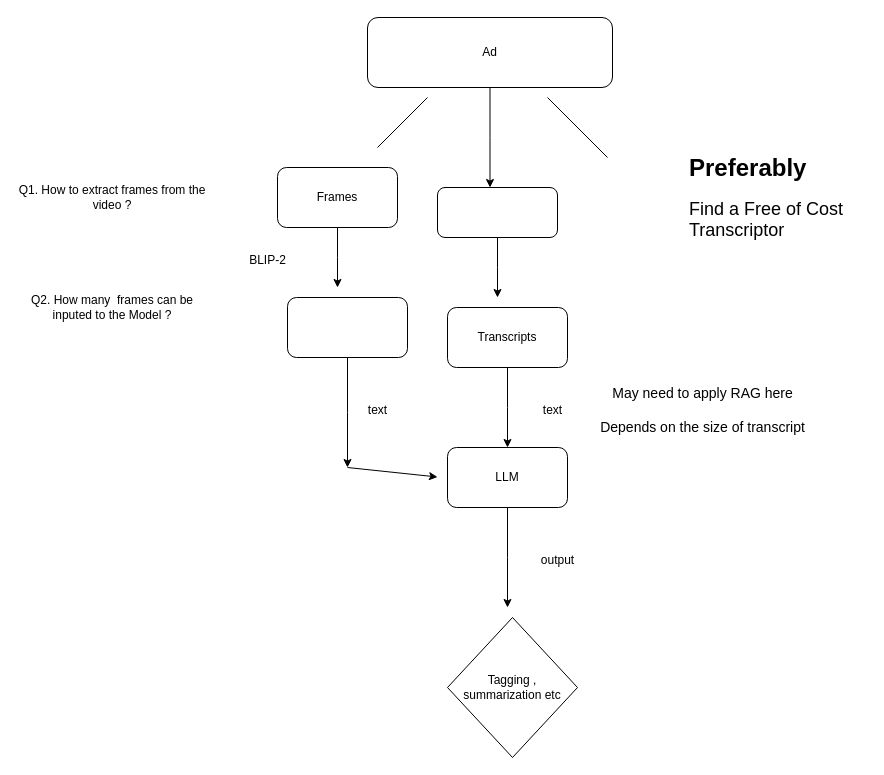
This 884x775 diagram has some shape labels left out. The centre of each missing label's shape, as x and y in pixels:
"Create a summary" belongs at (347,327).
"Transcriptor API" belongs at (497,212).
